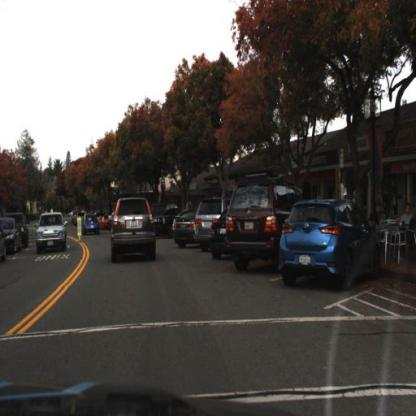car: (278, 196, 386, 291), (224, 169, 284, 276), (107, 197, 163, 263), (194, 194, 232, 252), (31, 208, 73, 258), (208, 205, 233, 263), (37, 212, 68, 255), (171, 205, 198, 253), (210, 209, 230, 260), (149, 205, 176, 241), (1, 215, 23, 258), (81, 211, 104, 239)
pedestrian: (371, 201, 388, 261), (401, 201, 416, 259)
